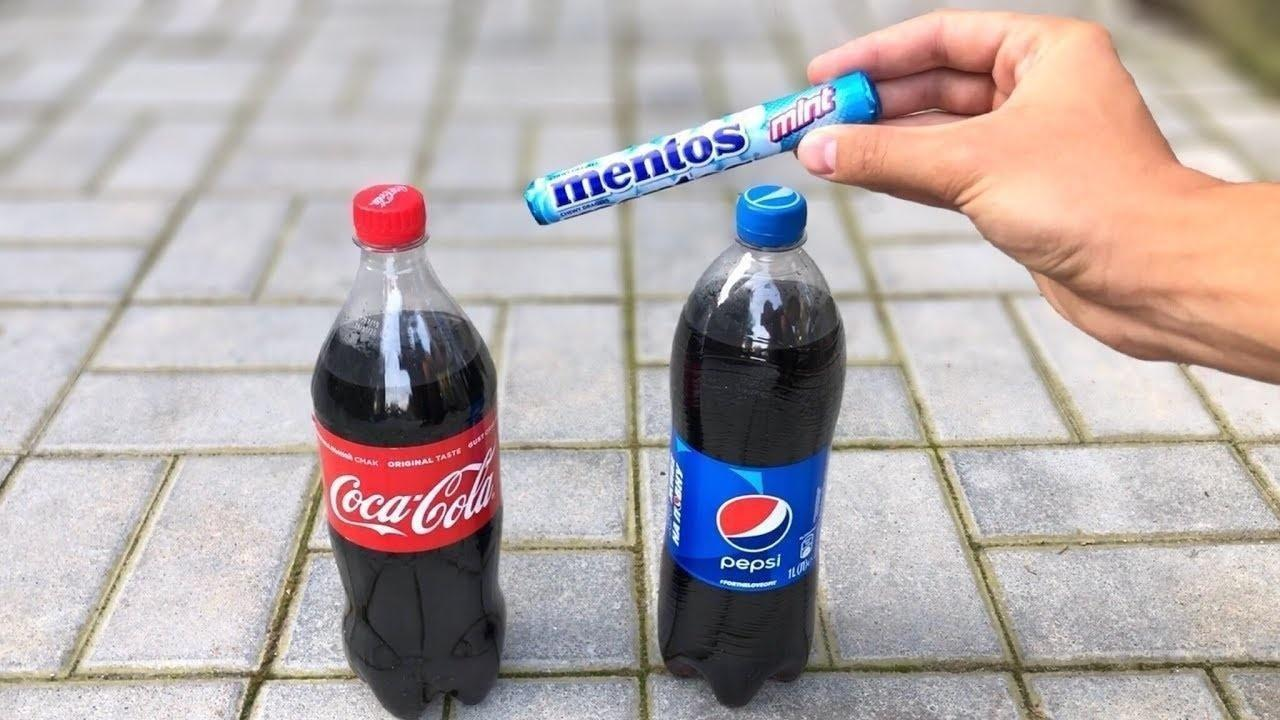bottle-plastic: (307, 179, 514, 719), (651, 179, 851, 706)
